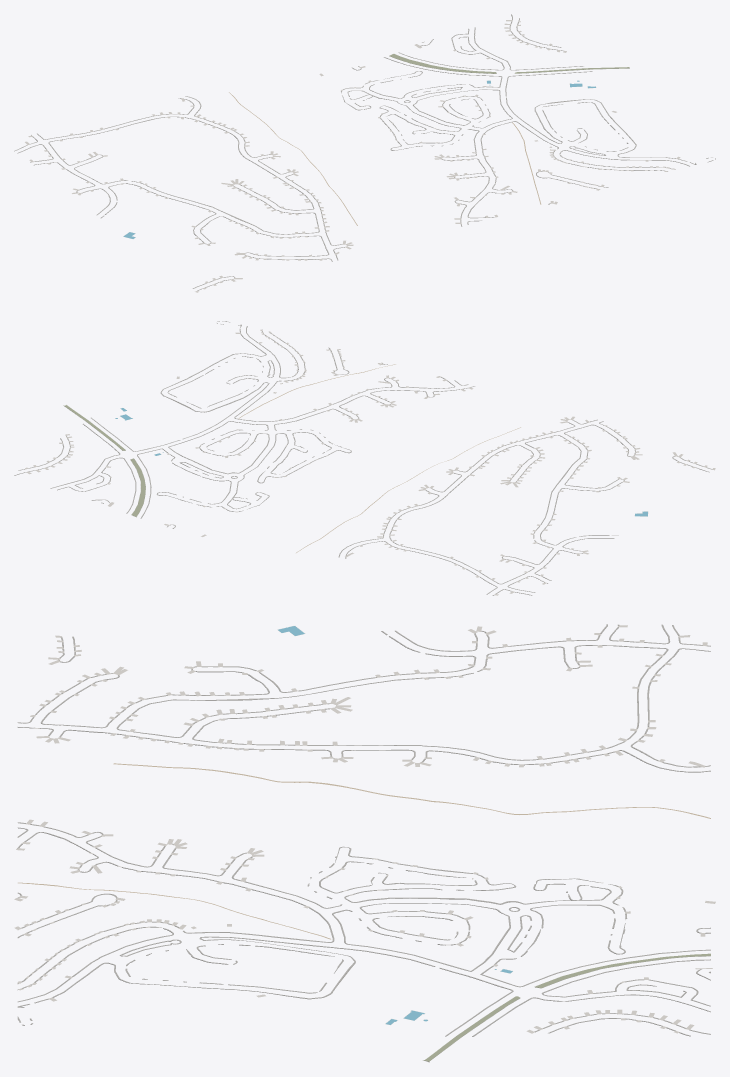
Rendered from ground_r5_c7.glb.
3 renders of one model, top to bottom at view 1: azimuth 30°, elevation 25°; view 2: azimuth 150°, elevation 25°; view 3: azimuth 270°, elevation 25°, orthographic. The views are drawn at different scales.
Visible parts, largest first — view 1: sidewalks, driveways, medians; view 2: sidewalks, driveways, medians, paths; view 3: sidewalks, driveways, paths, medians.
Part boxes in pixels (box(x1,y1,x2,y2)): sidewalks: box(14, 14, 715, 290); driveways: box(25, 20, 680, 292); medians: box(389, 54, 629, 73); sidewalks: box(14, 321, 712, 595); driveways: box(25, 329, 715, 595); medians: box(63, 405, 145, 516); paths: box(238, 364, 520, 552); sidewalks: box(17, 624, 710, 1036); driveways: box(14, 625, 715, 1033); paths: box(18, 763, 710, 939); medians: box(423, 953, 710, 1062).
Size of the model in its own units: 1206 by 56.23 by 797.
